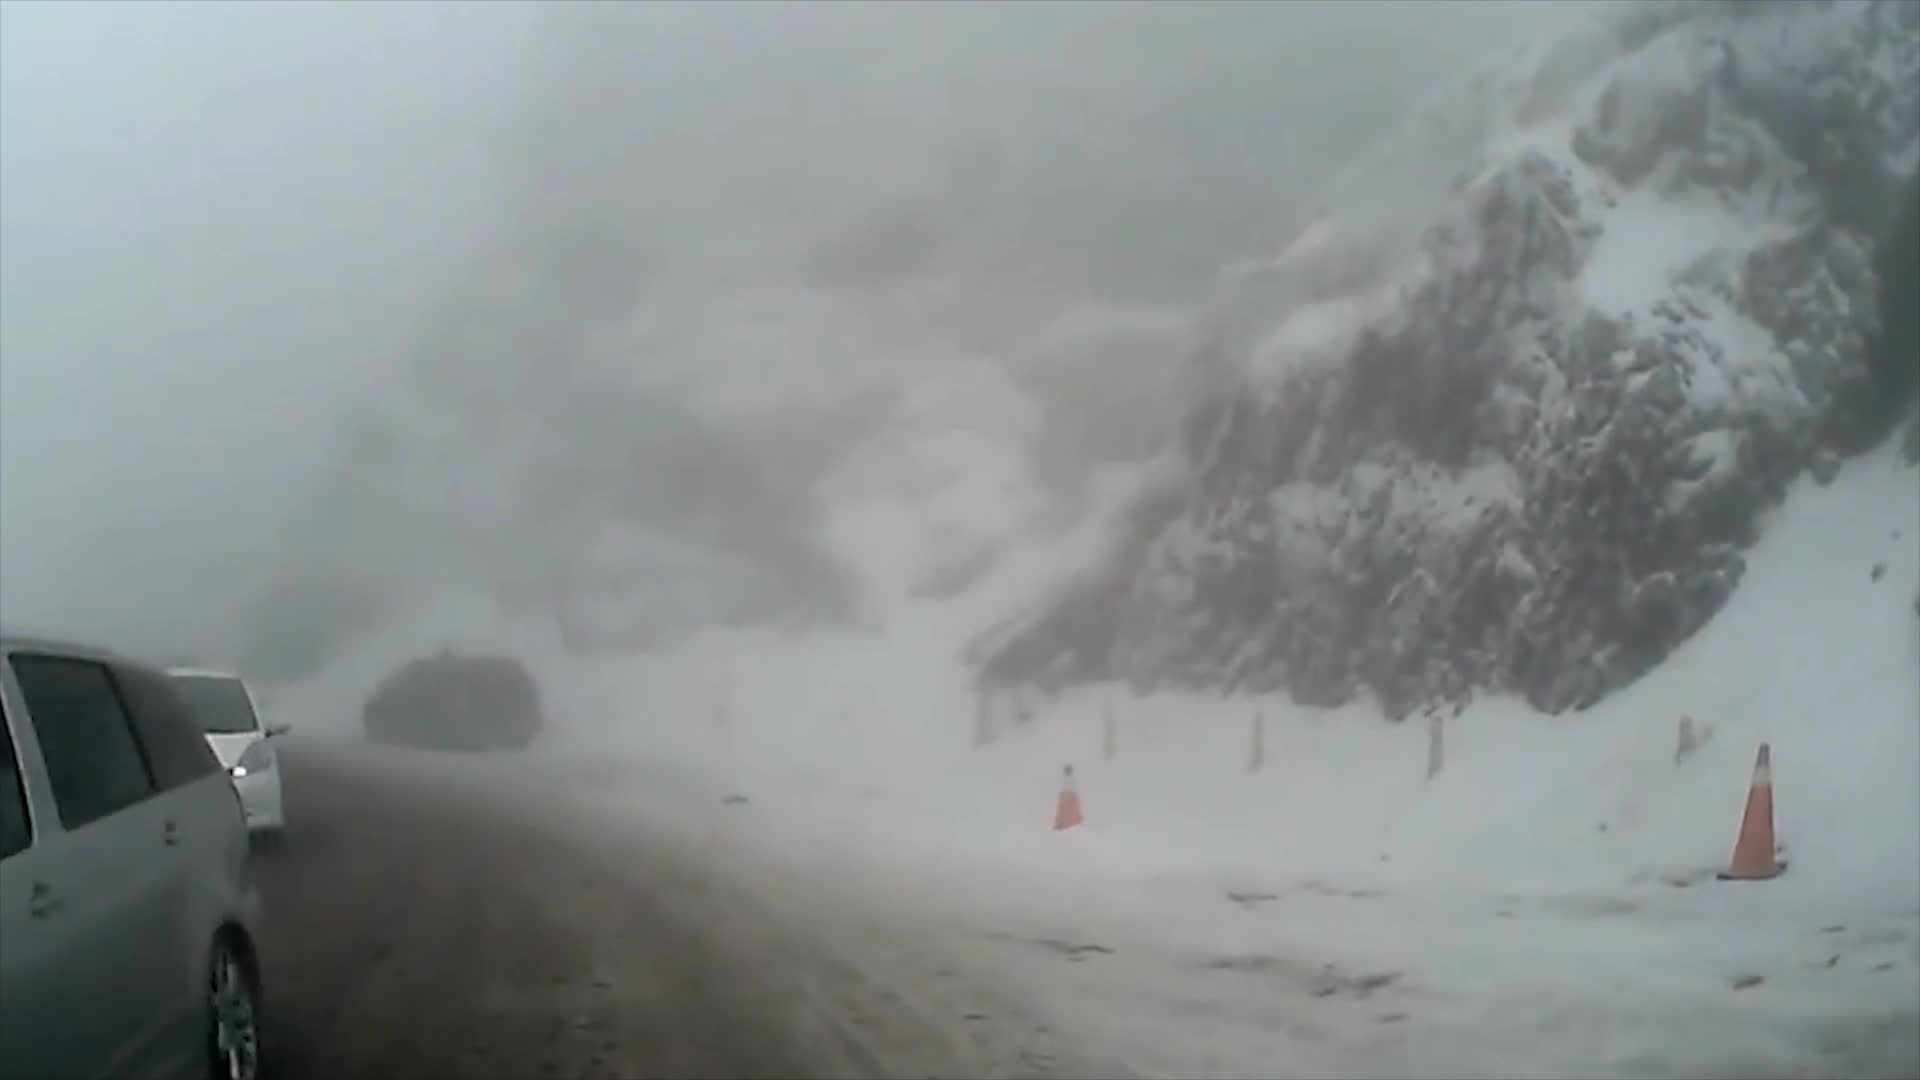vehicle: (0, 632, 268, 1080), (100, 669, 291, 862), (361, 651, 543, 752)
